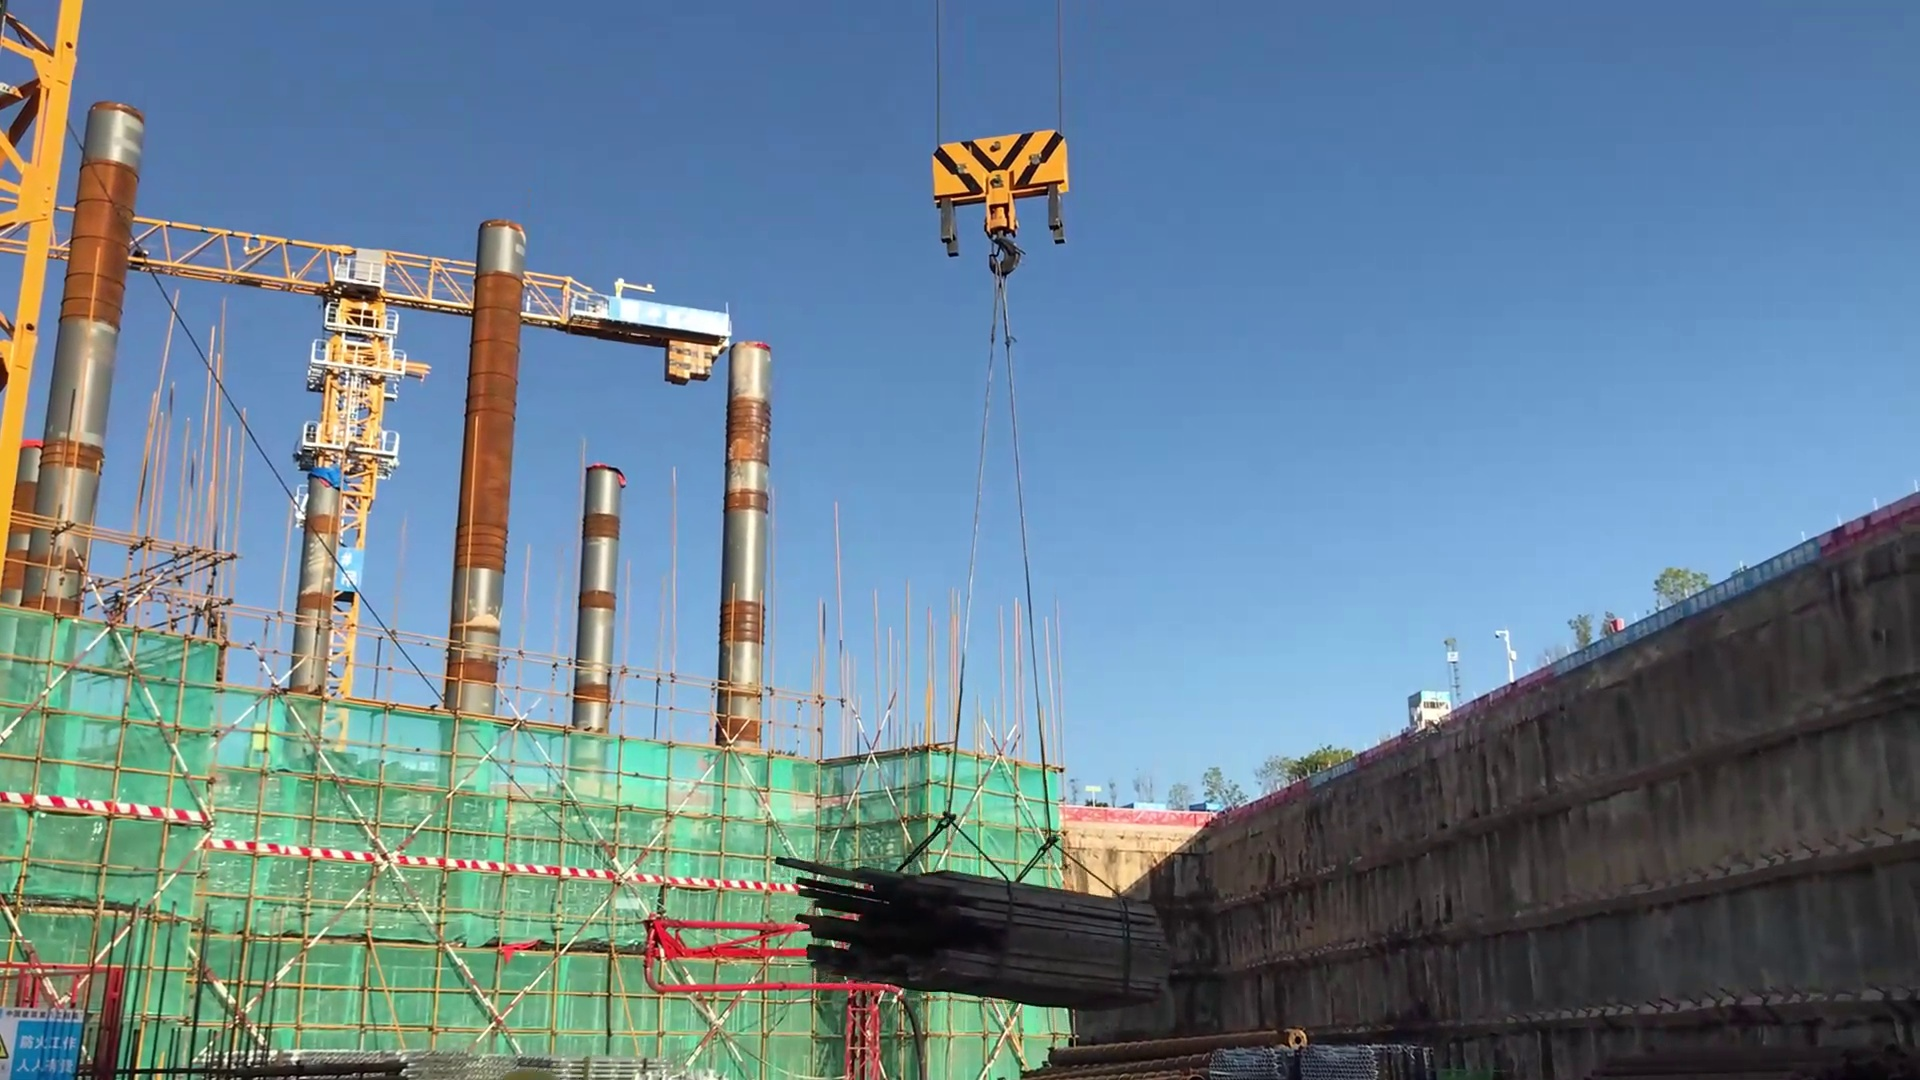hook: (913, 123, 1092, 291)
slogan: (1531, 508, 1847, 669)
wood: (756, 824, 1224, 1004)
